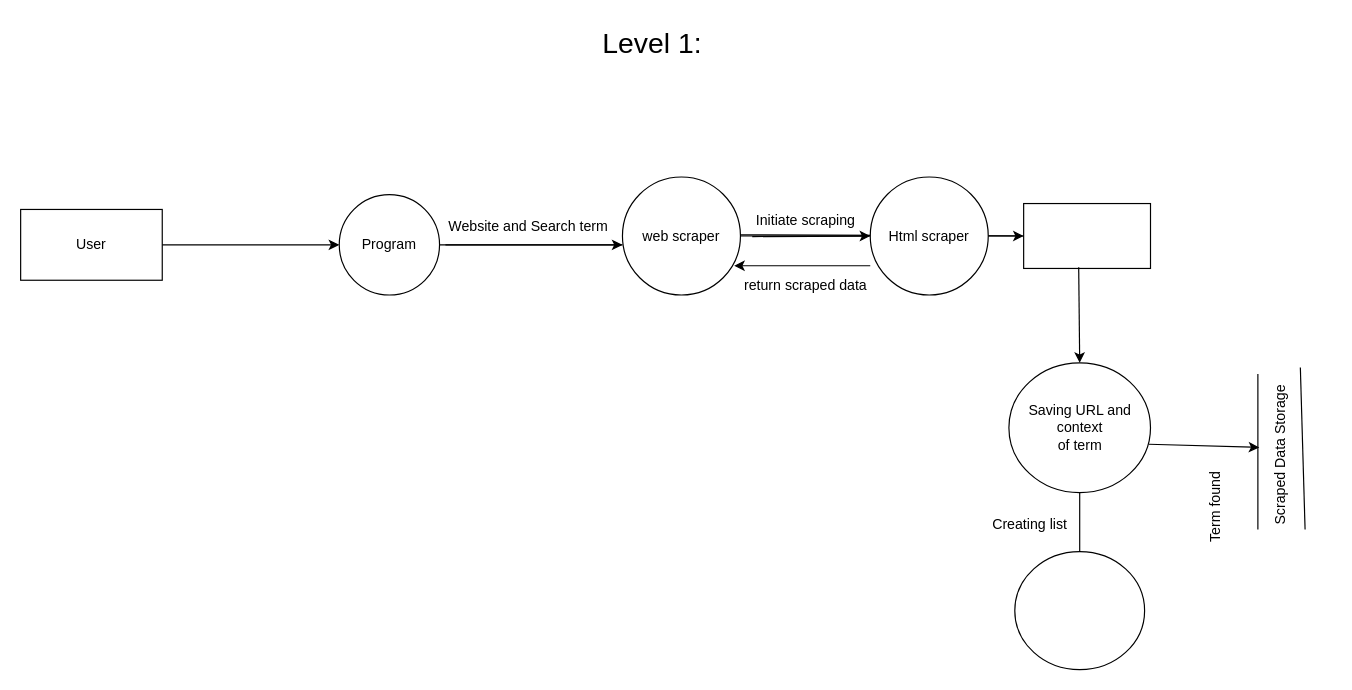
Some shapes in this 1352 by 690 pixel diagram are drawn without their labels. The shapes that lost their labels are listed below. From the top down, each one's centre as x and y in pixels, then its label:
At point (1086, 235): "Web".
At point (1079, 610): "List Displayed".
